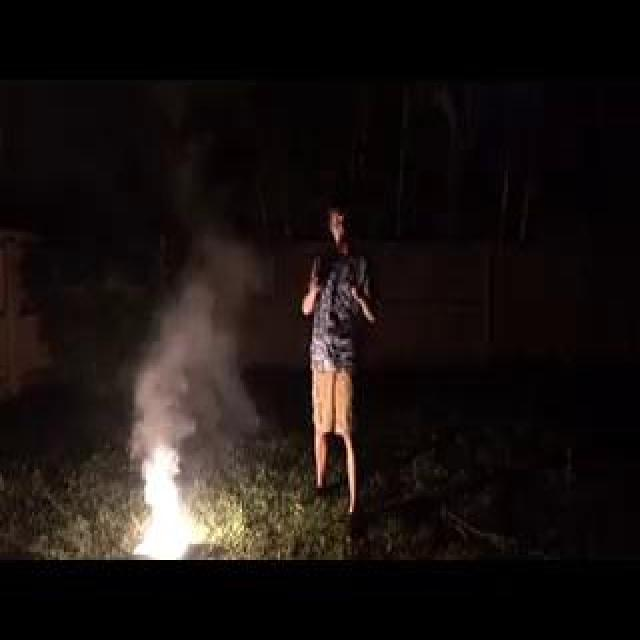Fire: (72, 110, 162, 506)
